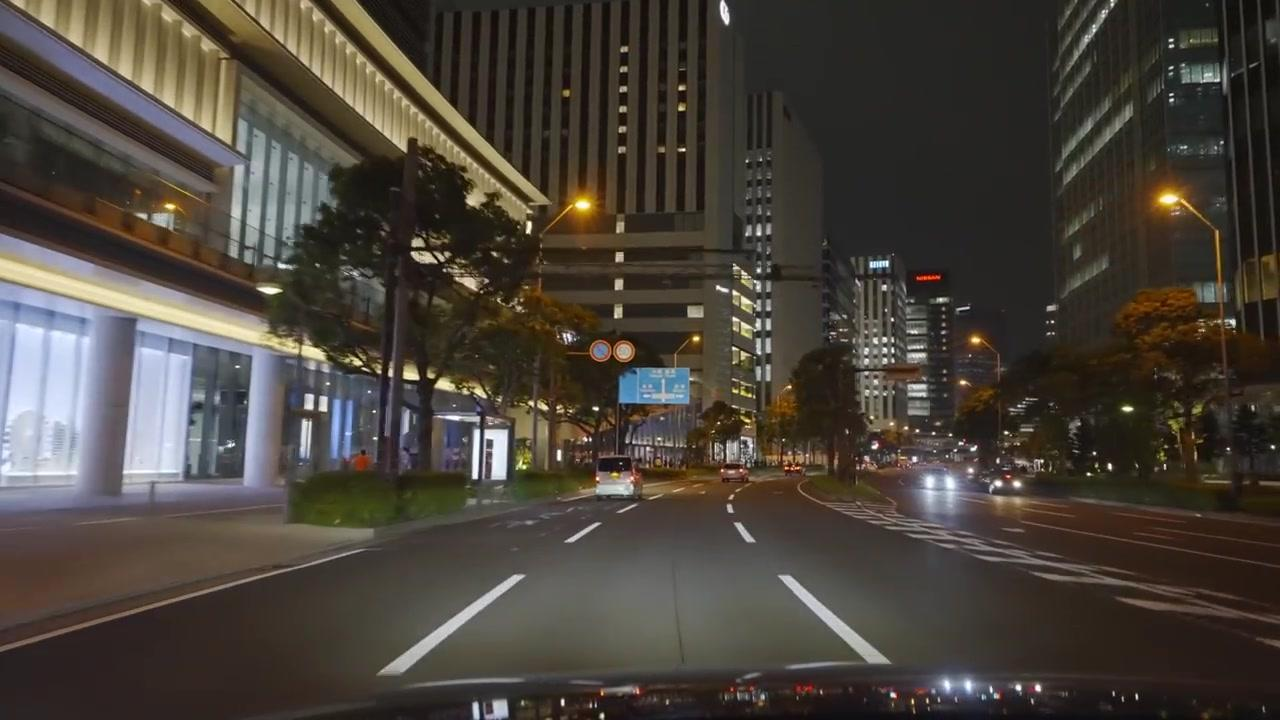bus: (594, 456, 642, 499)
car: (594, 455, 642, 499), (986, 466, 1021, 495), (917, 465, 953, 490), (719, 464, 749, 483), (784, 463, 805, 476)
traffic light: (590, 339, 612, 363)
